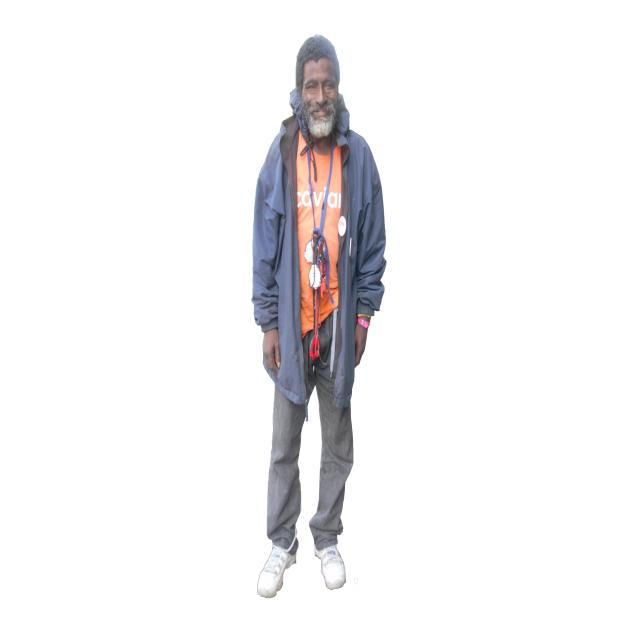jovem: (232, 23, 388, 623)
